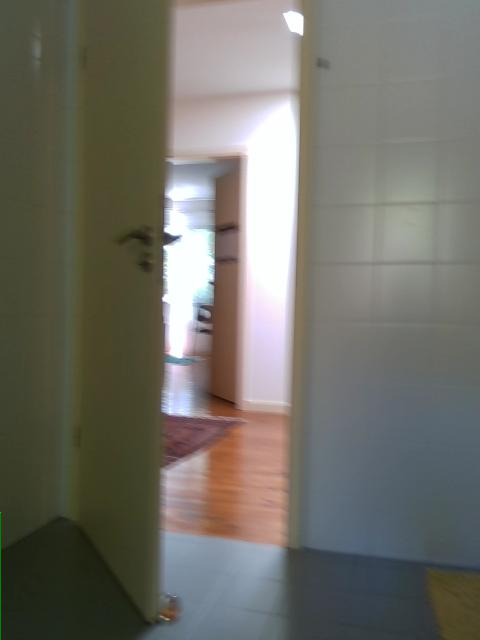semi_door: (70, 3, 315, 625)
